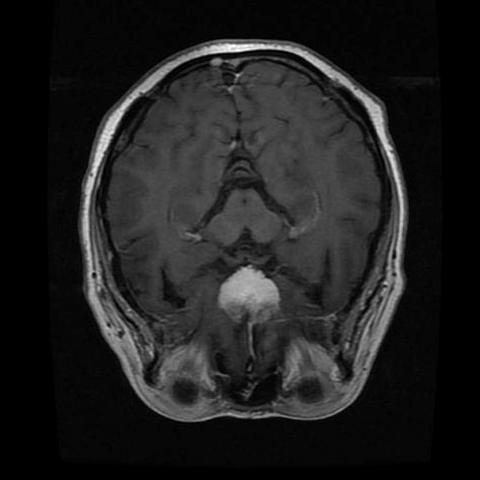Tumour-Meningioma: (208, 258, 291, 339)
